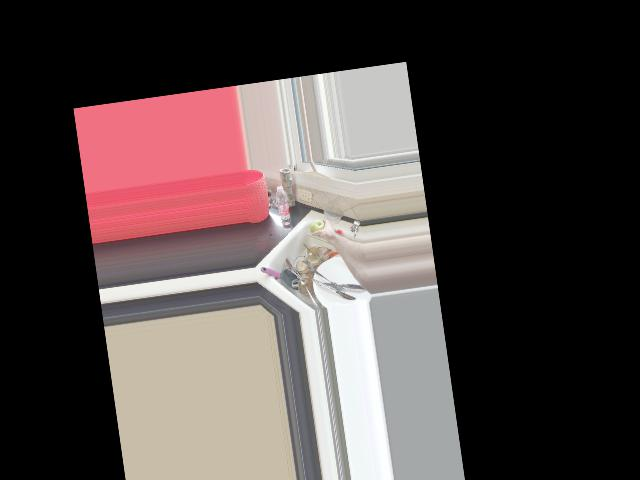apple: (309, 217, 326, 236)
